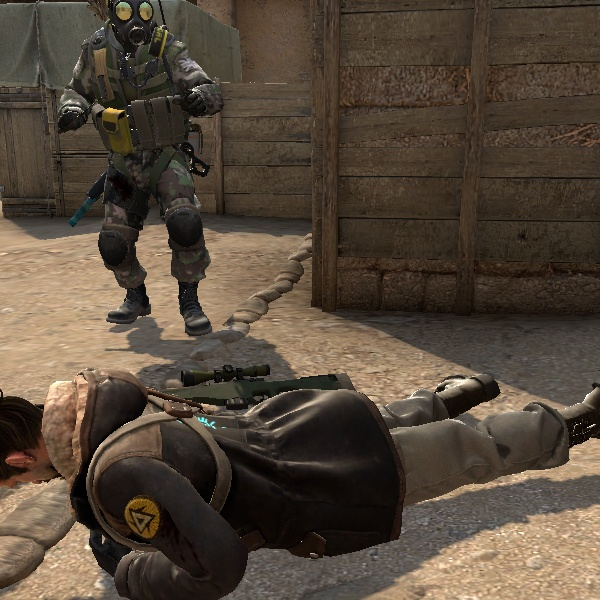ct_body: (47, 3, 244, 340)
ct_head: (97, 0, 178, 52)
